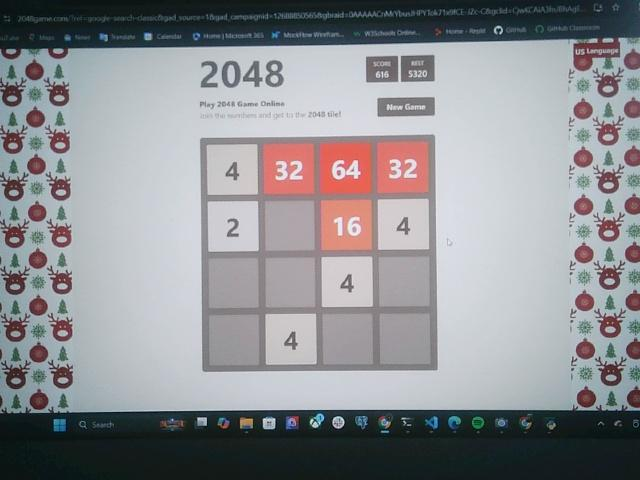board: (201, 137, 437, 372)
tile: (321, 199, 373, 251), (322, 256, 374, 308), (265, 313, 317, 365), (378, 141, 429, 193), (378, 199, 429, 251), (321, 143, 372, 194), (208, 144, 258, 195), (208, 201, 259, 251), (265, 143, 314, 195)
